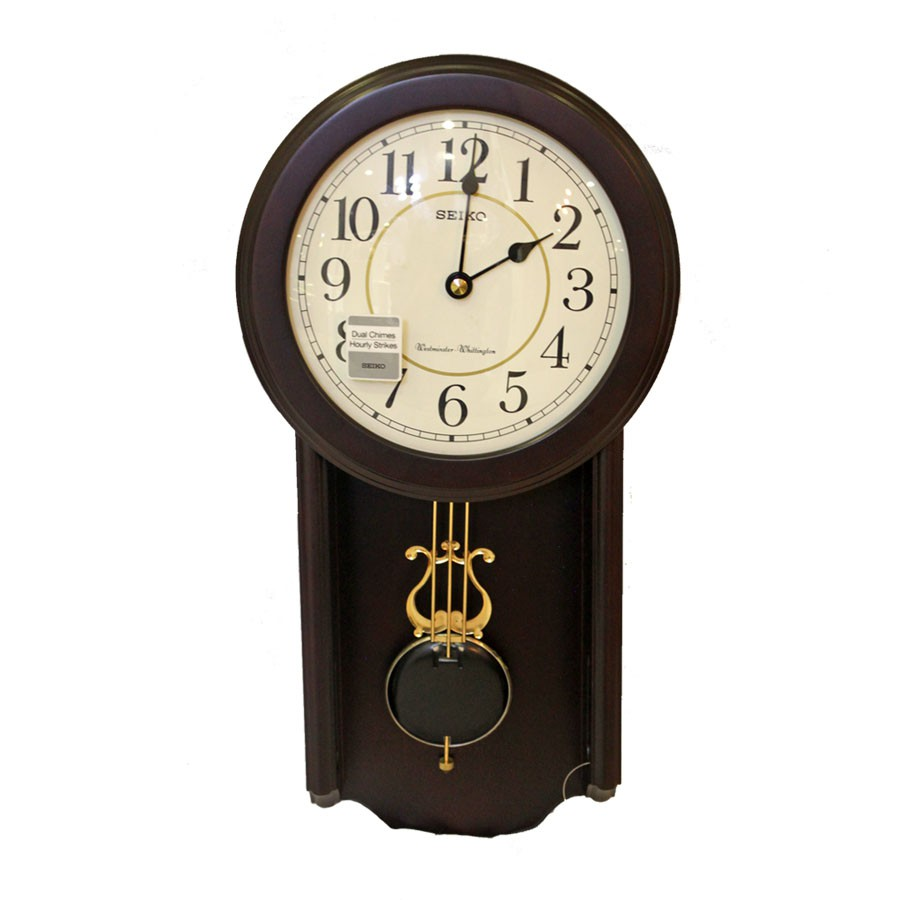jam dinding: (182, 71, 711, 497)
